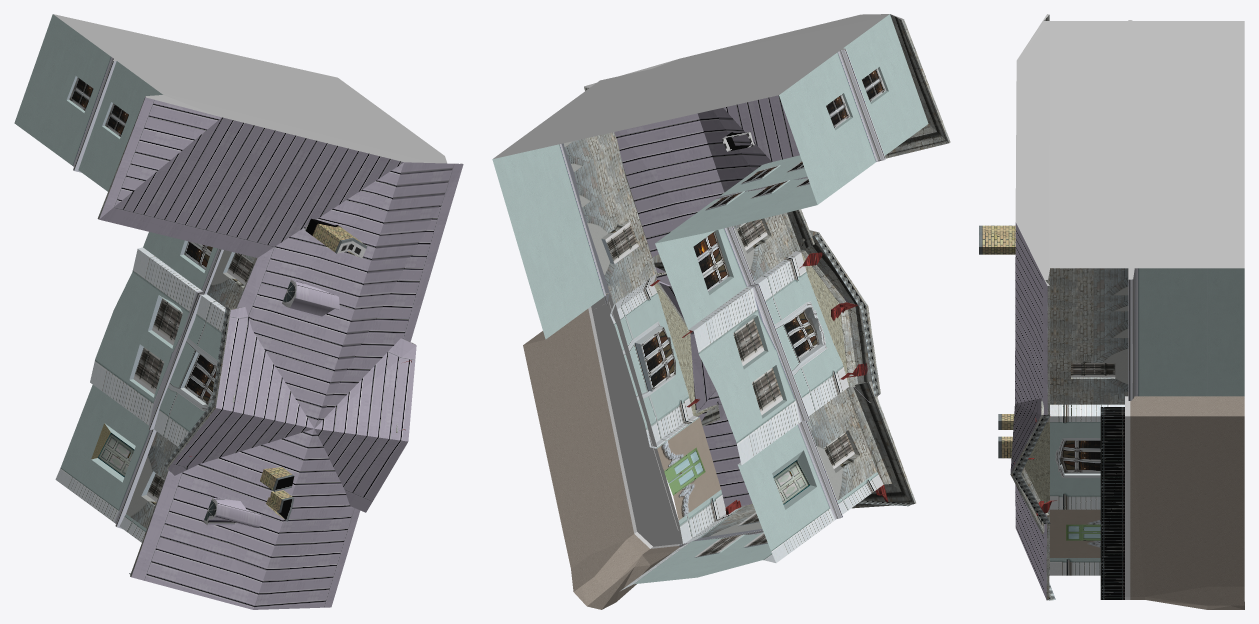
The model's file is Olivemagi_tn_11_IIV-origo.obj.
The picture shows the model from 3 angles, left to right: view 1: azimuth 30°, elevation 25°; view 2: azimuth 150°, elevation 25°; view 3: azimuth 270°, elevation 25°; orthographic projection. The views are drawn at different scales.
Parts seen in each view (by area): view 1: Olevimagi_tn_11_IIV; view 2: Olevimagi_tn_11_IIV; view 3: Olevimagi_tn_11_IIV.
Part boxes in pixels (box(x1,y1,x2,y2)): Olevimagi_tn_11_IIV: box(14, 14, 463, 609); Olevimagi_tn_11_IIV: box(492, 14, 950, 609); Olevimagi_tn_11_IIV: box(979, 14, 1244, 609).
Bounding box in the file's own units: 17.19 × 25 × 11.94.
